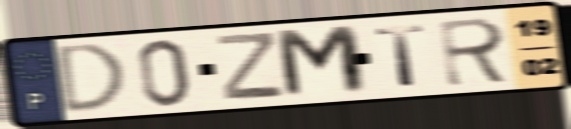0: (134, 36, 194, 109)
D: (56, 41, 130, 117)
M: (271, 22, 373, 101)
R: (436, 15, 514, 89)
T: (372, 22, 431, 89)
Z: (214, 29, 287, 102)
